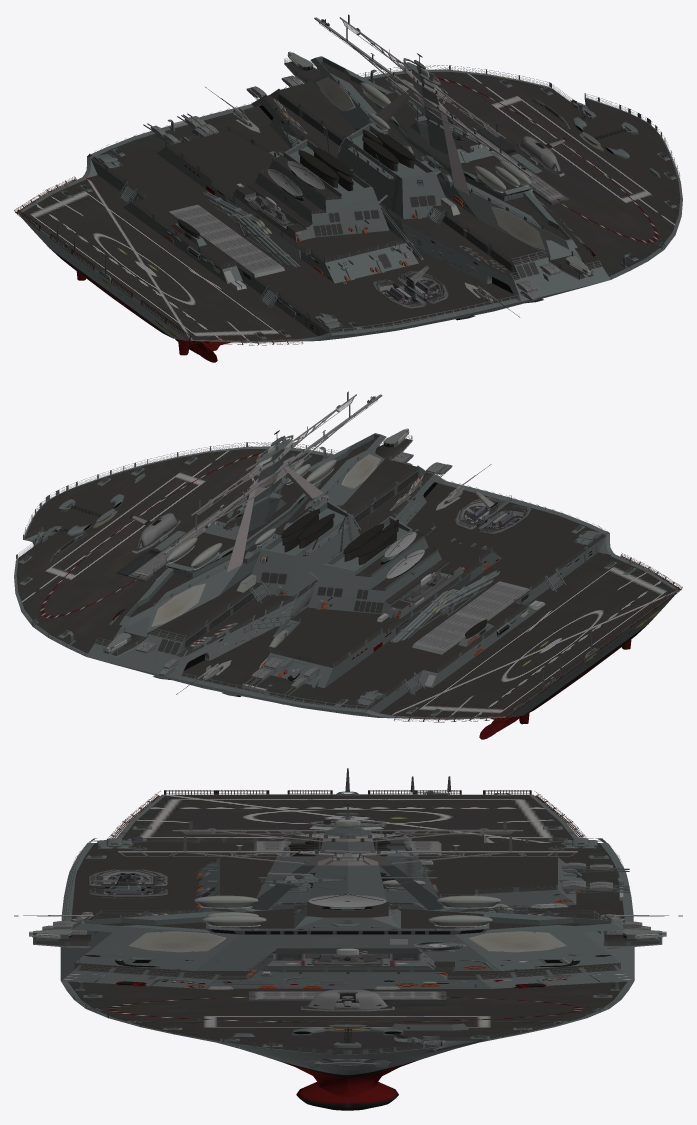
Rendered from ship-navy.glb.
3 views of the same model, one above another, from view 1: azimuth 30°, elevation 25°; view 2: azimuth 150°, elevation 25°; view 3: azimuth 270°, elevation 25° (orthographic). The views are drawn at different scales.
Visible parts, largest first — view 1: Object_6, Object_12, Object_14, Object_8; view 2: Object_6, Object_12, Object_14, Object_8, Object_4; view 3: Object_6, Object_12, Object_14, Object_4.
Boxes of the visible parts, x1,y1,x2,y2 form: Object_6: [14, 14, 682, 362]; Object_12: [372, 271, 448, 308]; Object_14: [267, 114, 462, 201]; Object_8: [205, 87, 519, 317]; Object_6: [14, 391, 682, 739]; Object_12: [455, 497, 531, 534]; Object_14: [226, 491, 424, 578]; Object_8: [176, 464, 491, 694]; Object_4: [202, 523, 445, 602]; Object_6: [29, 768, 666, 1110]; Object_12: [88, 869, 168, 898]; Object_14: [301, 829, 388, 910]; Object_4: [312, 948, 383, 964].
Bounding box in the file's own units: 1 × 0.3476 × 1.
5 materials, 5 textured.
